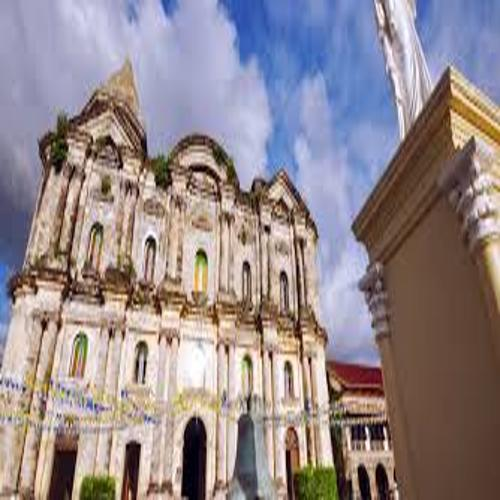Taal Basilica Church: (8, 56, 332, 500)
